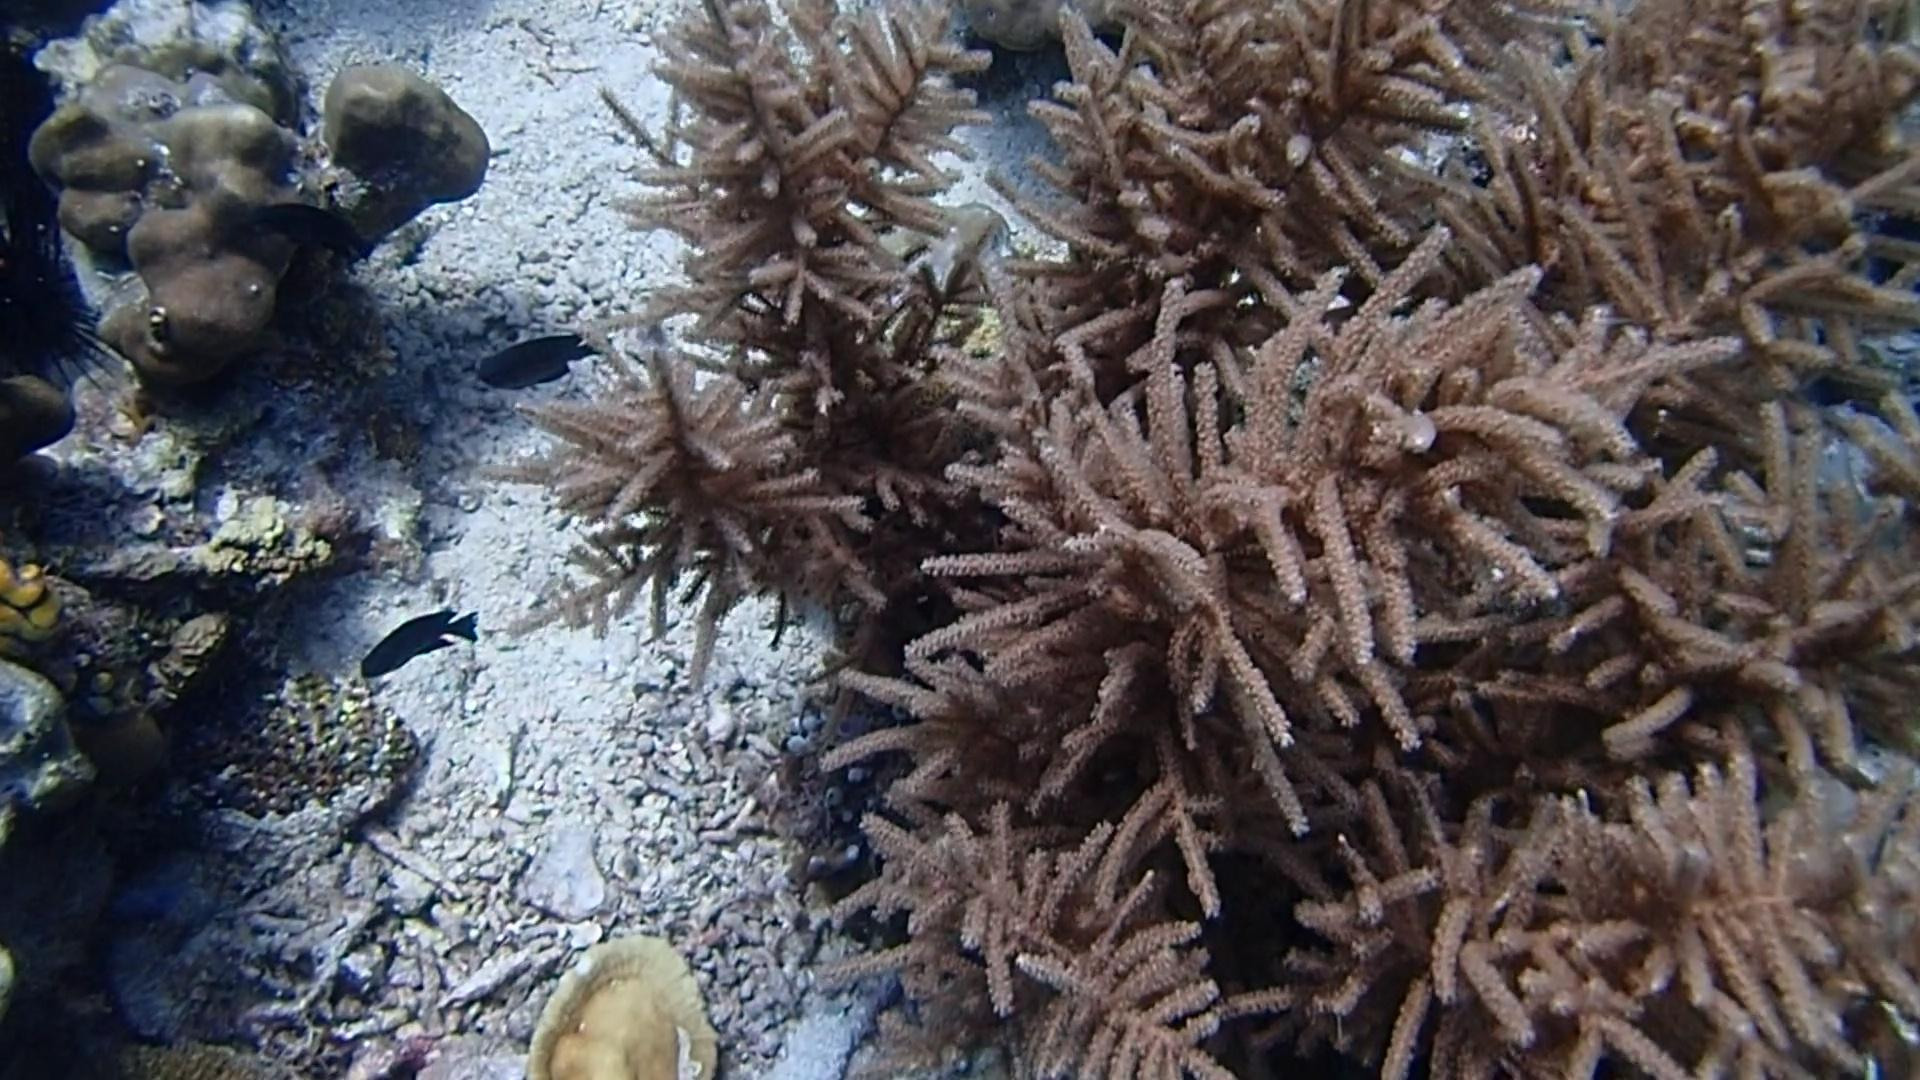Dark Fish: (355, 596, 488, 688), (471, 318, 604, 394), (251, 194, 377, 273)
